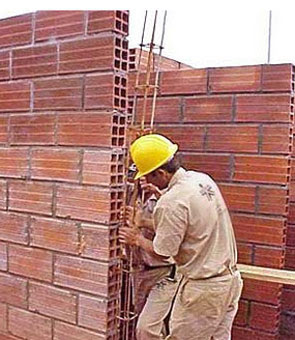casco: (129, 132, 180, 181)
